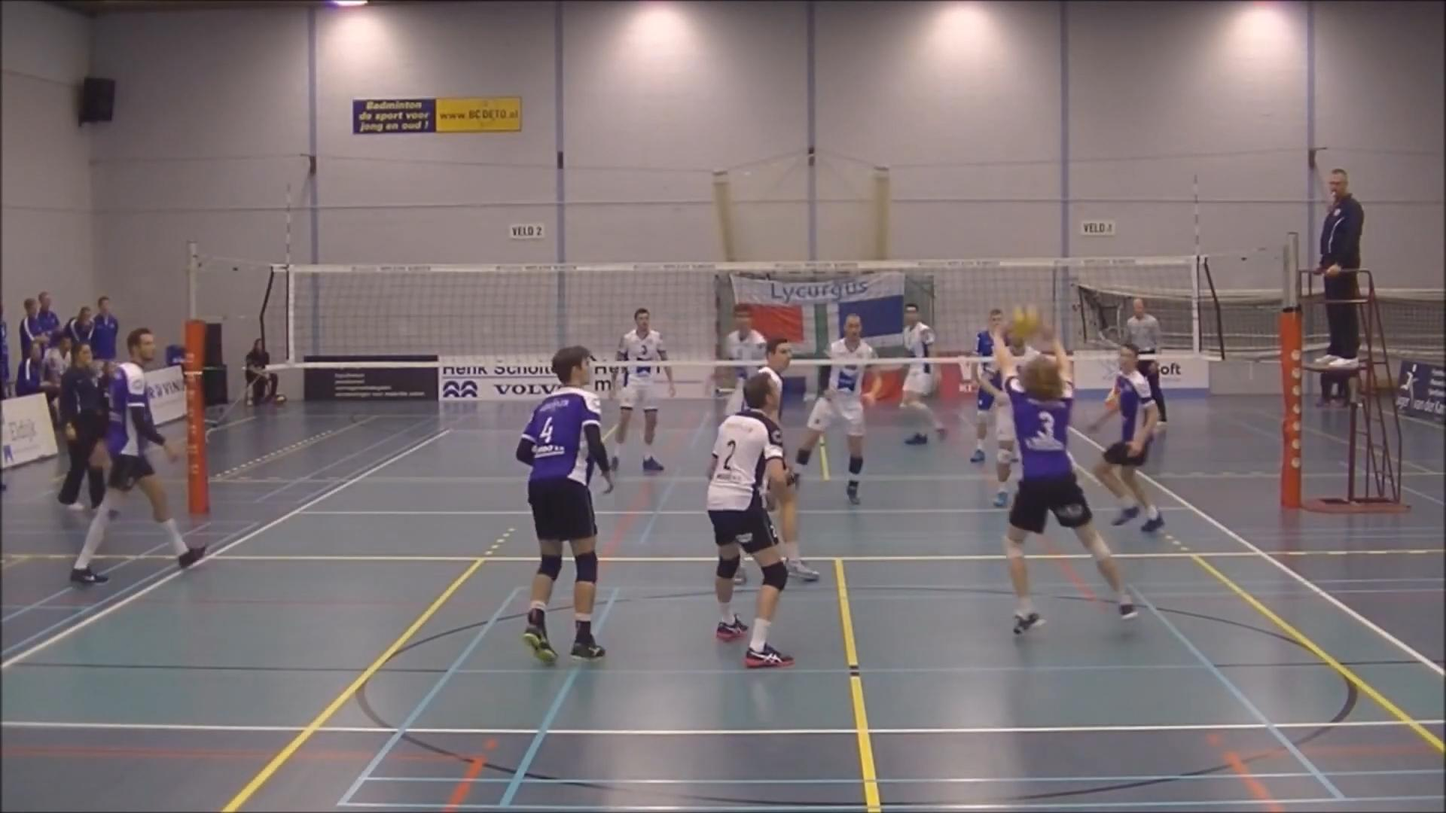Player: (70, 327, 206, 583), (516, 346, 612, 662), (706, 374, 793, 668), (795, 314, 881, 504), (1090, 343, 1163, 532), (611, 308, 667, 473), (900, 303, 946, 444), (970, 308, 1005, 463), (979, 379, 1018, 507), (723, 304, 767, 413), (774, 472, 798, 559)
Receive: (975, 312, 1139, 643)
ball: (1007, 305, 1040, 341)
